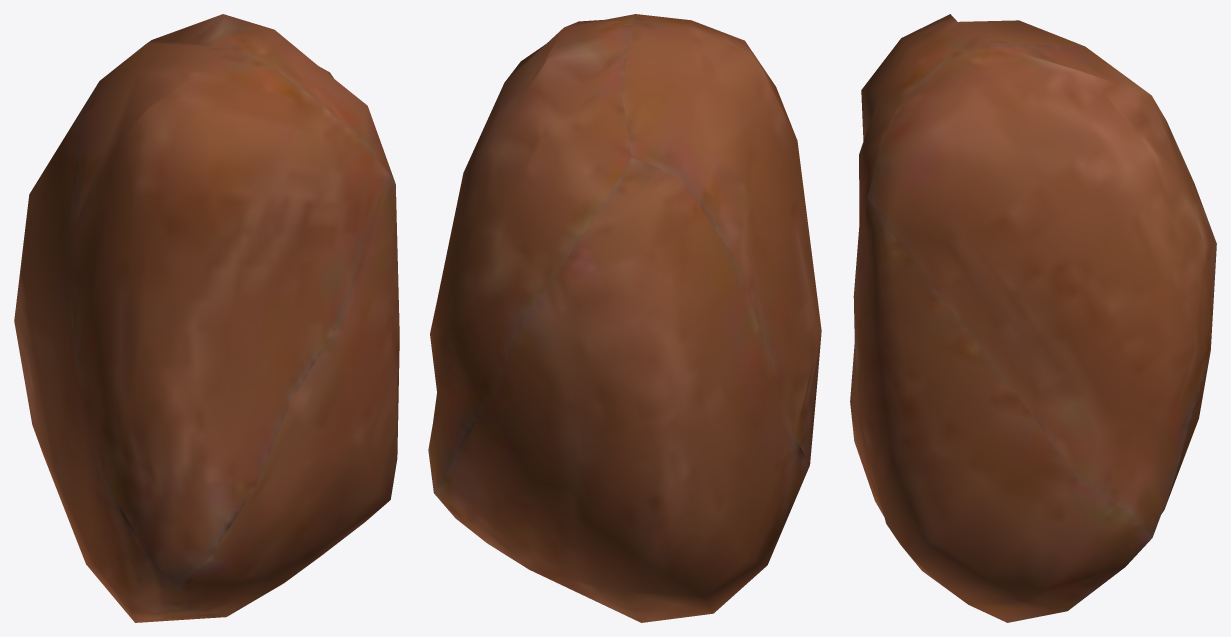
Rendered from desert_boulder_2.glb.
3 views of the same model, side by side, from view 1: azimuth 30°, elevation 25°; view 2: azimuth 150°, elevation 25°; view 3: azimuth 270°, elevation 25° (orthographic).
Visible parts, largest first — view 1: Rock_Boulders_3; view 2: Rock_Boulders_3; view 3: Rock_Boulders_3.
Boxes of the visible parts, x1=… form: Rock_Boulders_3: x1=14, y1=14, x2=399, y2=622; Rock_Boulders_3: x1=428, y1=14, x2=821, y2=622; Rock_Boulders_3: x1=850, y1=14, x2=1216, y2=622.
Size of what is drawn, in the model's own units: 2.39 by 4.37 by 2.57.
Materials: 1 (1 with a texture image).
